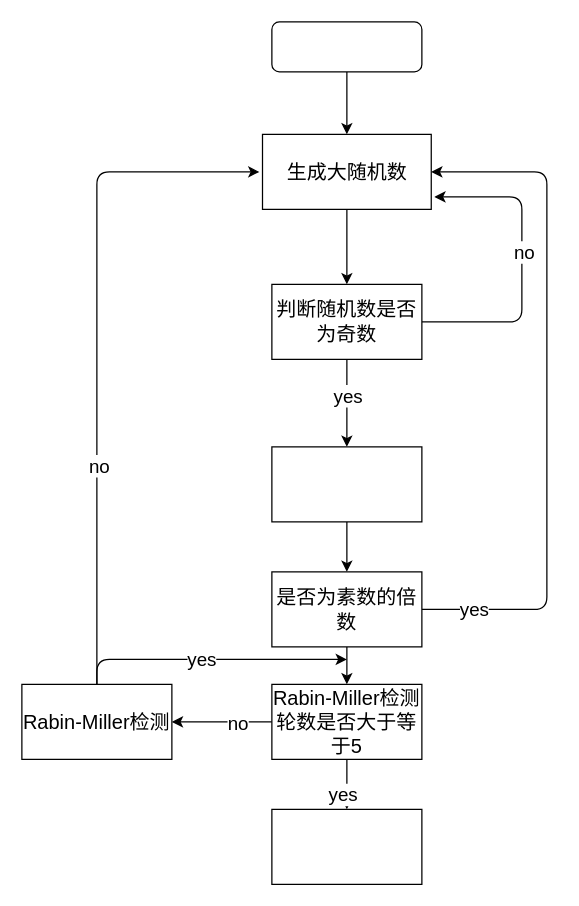
Some shapes in this 579 by 906 pixel diagram are drawn without their labels. Here are the shapes that lost their labels. From the top down, the box of each, then its label:
(271, 21, 422, 72): start
(271, 446, 422, 522): 使用素数表对随机数进行素性检验
(271, 808, 422, 884): end
